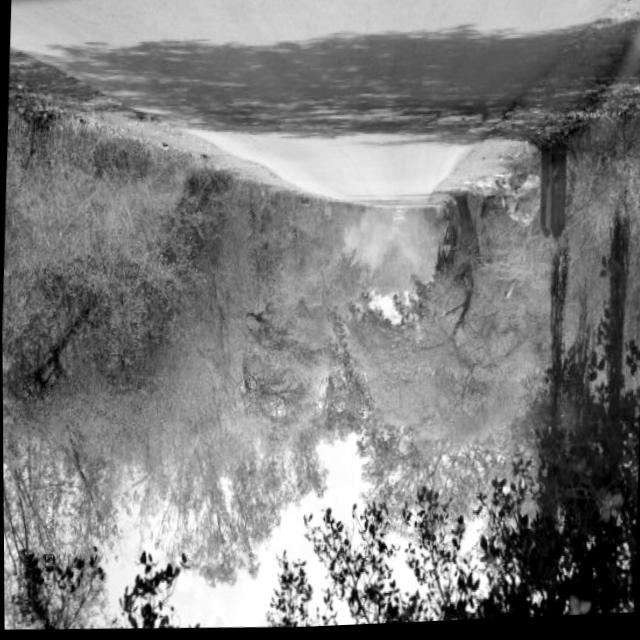cleat: (3, 0, 513, 265)
